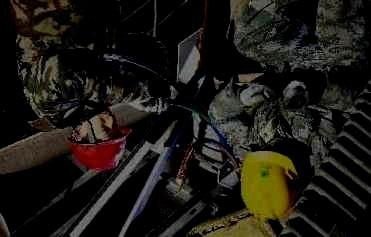helmet: (241, 139, 301, 220), (68, 110, 134, 171)
